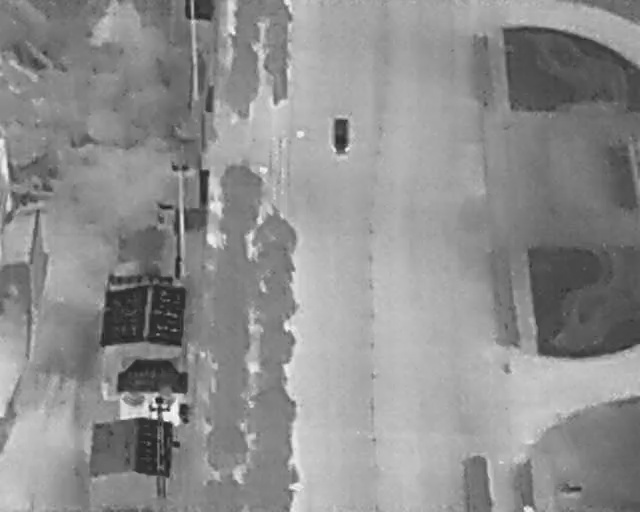Car: (331, 115, 352, 156)
